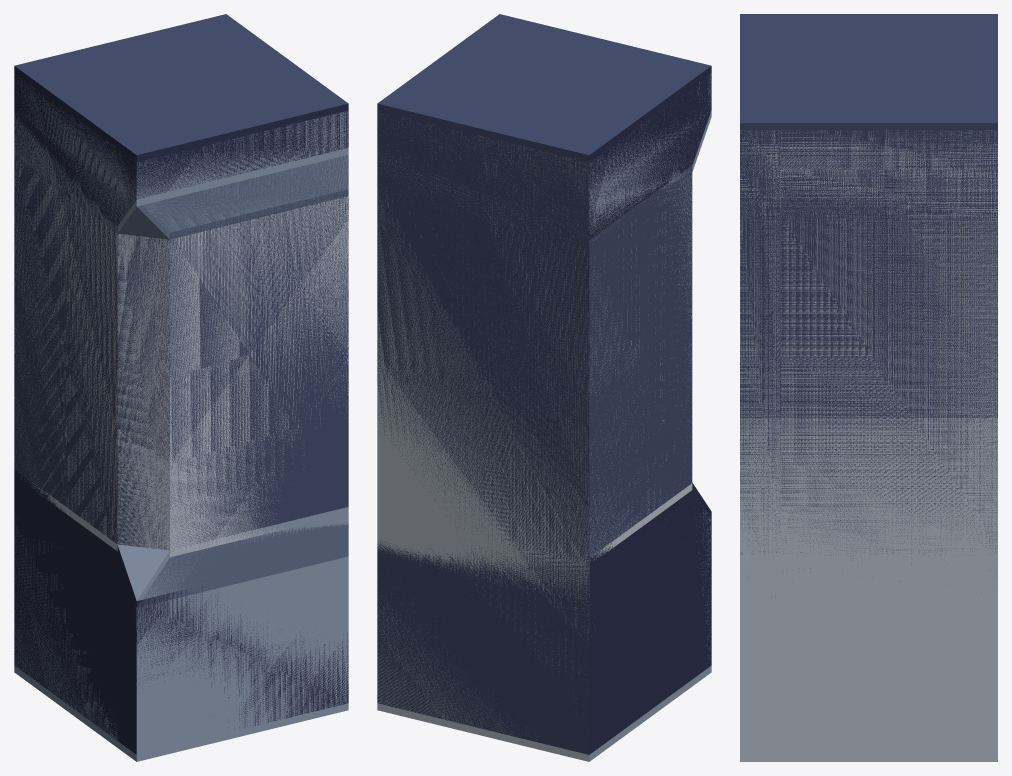
Rendered from innerCornerWalls.fbx.
3 views of the same model, side by side, from view 1: azimuth 30°, elevation 25°; view 2: azimuth 150°, elevation 25°; view 3: azimuth 270°, elevation 25° (orthographic). The views are drawn at different scales.
Visible parts, largest first — view 1: Cube.005, Cube.015; view 2: Cube.005, Cube.015; view 3: Cube.015, Cube.005.
Boxes of the visible parts, box(x1,y1,x2,y2) form: Cube.005: box(14, 14, 348, 754); Cube.015: box(14, 74, 348, 761); Cube.005: box(377, 14, 711, 754); Cube.015: box(377, 74, 711, 761); Cube.015: box(740, 130, 997, 761); Cube.005: box(740, 14, 997, 592).
Size of the model in its own units: 200 by 547 by 200.
